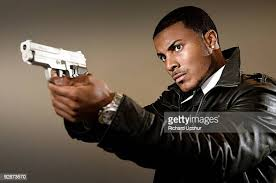gun: (16, 37, 100, 94)
